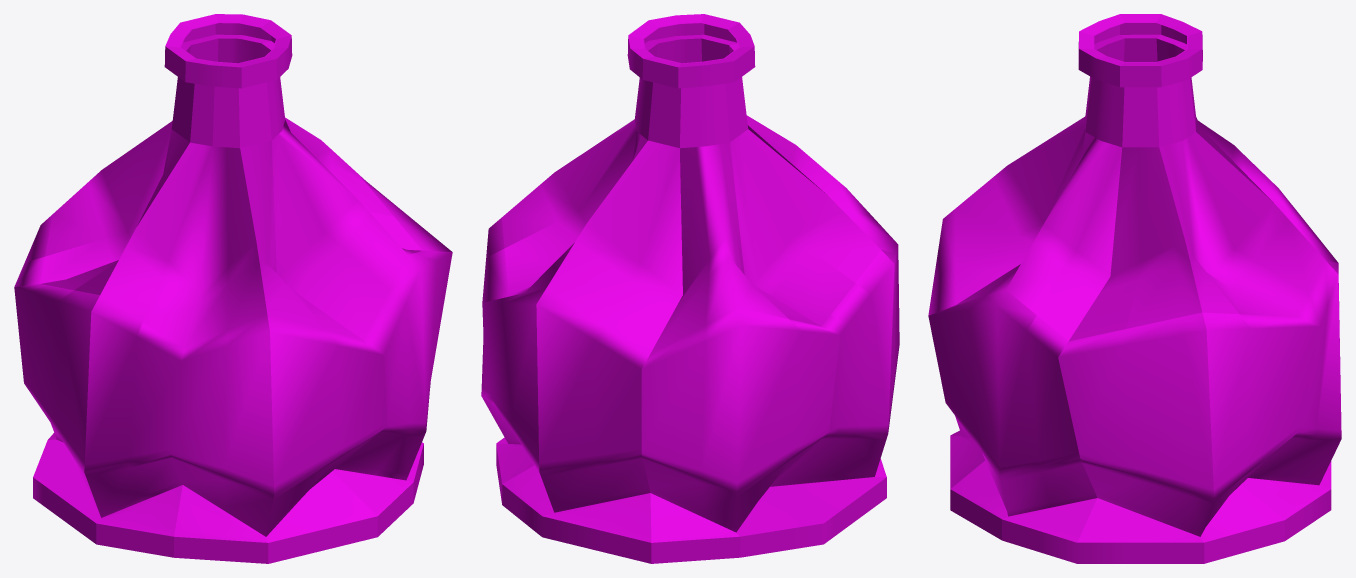
File: potion5.fbx
3 views of the same model, side by side, from view 1: azimuth 30°, elevation 25°; view 2: azimuth 150°, elevation 25°; view 3: azimuth 270°, elevation 25° (orthographic).
Parts seen in each view (by area): view 1: pCube7; view 2: pCube7; view 3: pCube7.
Part boxes in pixels (x1,y1,x2,y2): pCube7: [14, 14, 452, 563]; pCube7: [481, 14, 899, 563]; pCube7: [928, 14, 1341, 563].
Bounding box in the file's own units: 3.86 × 4.45 × 3.76.
